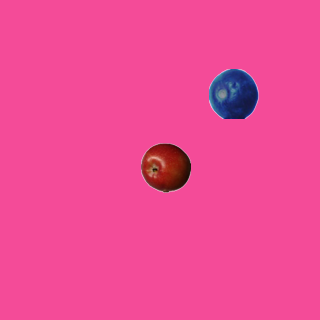Apple Braeburn: (140, 142, 190, 192)
Huckleberry: (208, 68, 258, 118)
